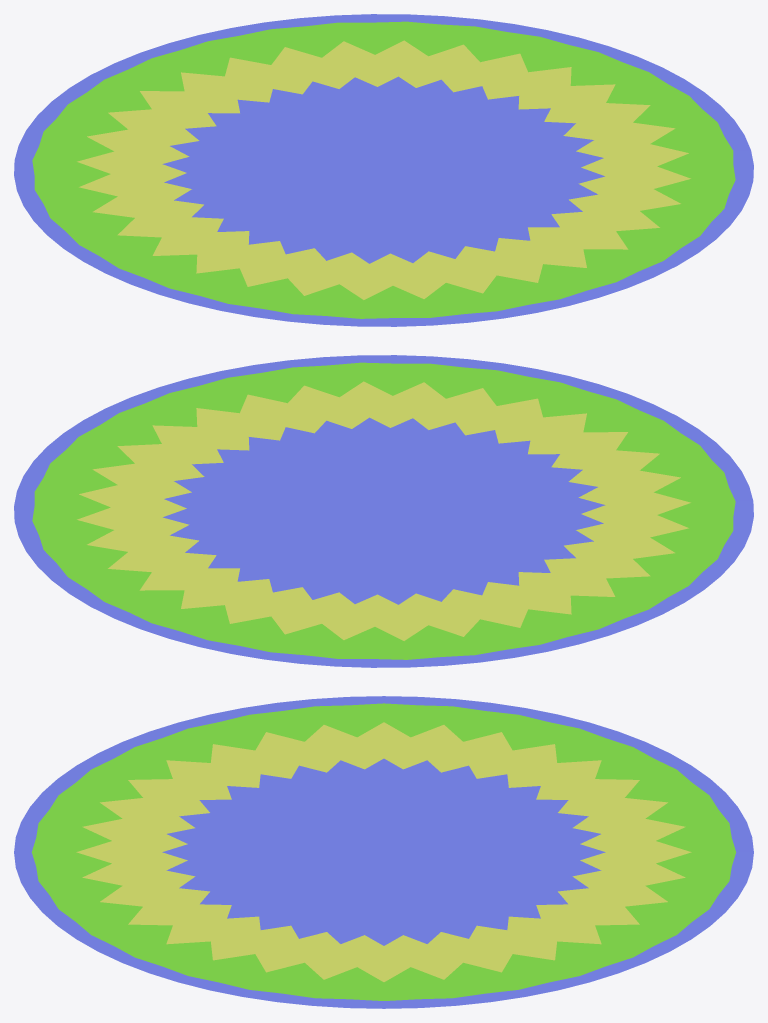
File: Carpet 1.fbx
3 renders of one model, top to bottom at view 1: azimuth 30°, elevation 25°; view 2: azimuth 150°, elevation 25°; view 3: azimuth 270°, elevation 25°, orthographic.
Visible parts, largest first — view 1: Cylinder.014; view 2: Cylinder.014; view 3: Cylinder.014.
Boxes of the visible parts, x1,y1,x2,y2 form: Cylinder.014: (14, 14, 753, 326); Cylinder.014: (14, 355, 753, 667); Cylinder.014: (14, 696, 753, 1008).
Size of the model in its own units: 253 by 0.4959 by 253.
